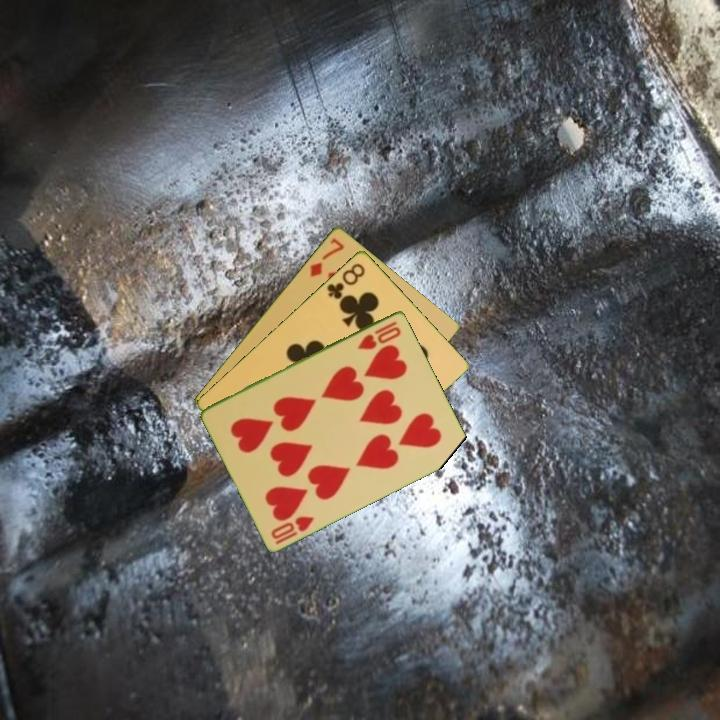10h: (267, 512, 318, 547), (354, 317, 404, 352)
7d: (306, 234, 347, 280)
8c: (323, 259, 368, 302)
